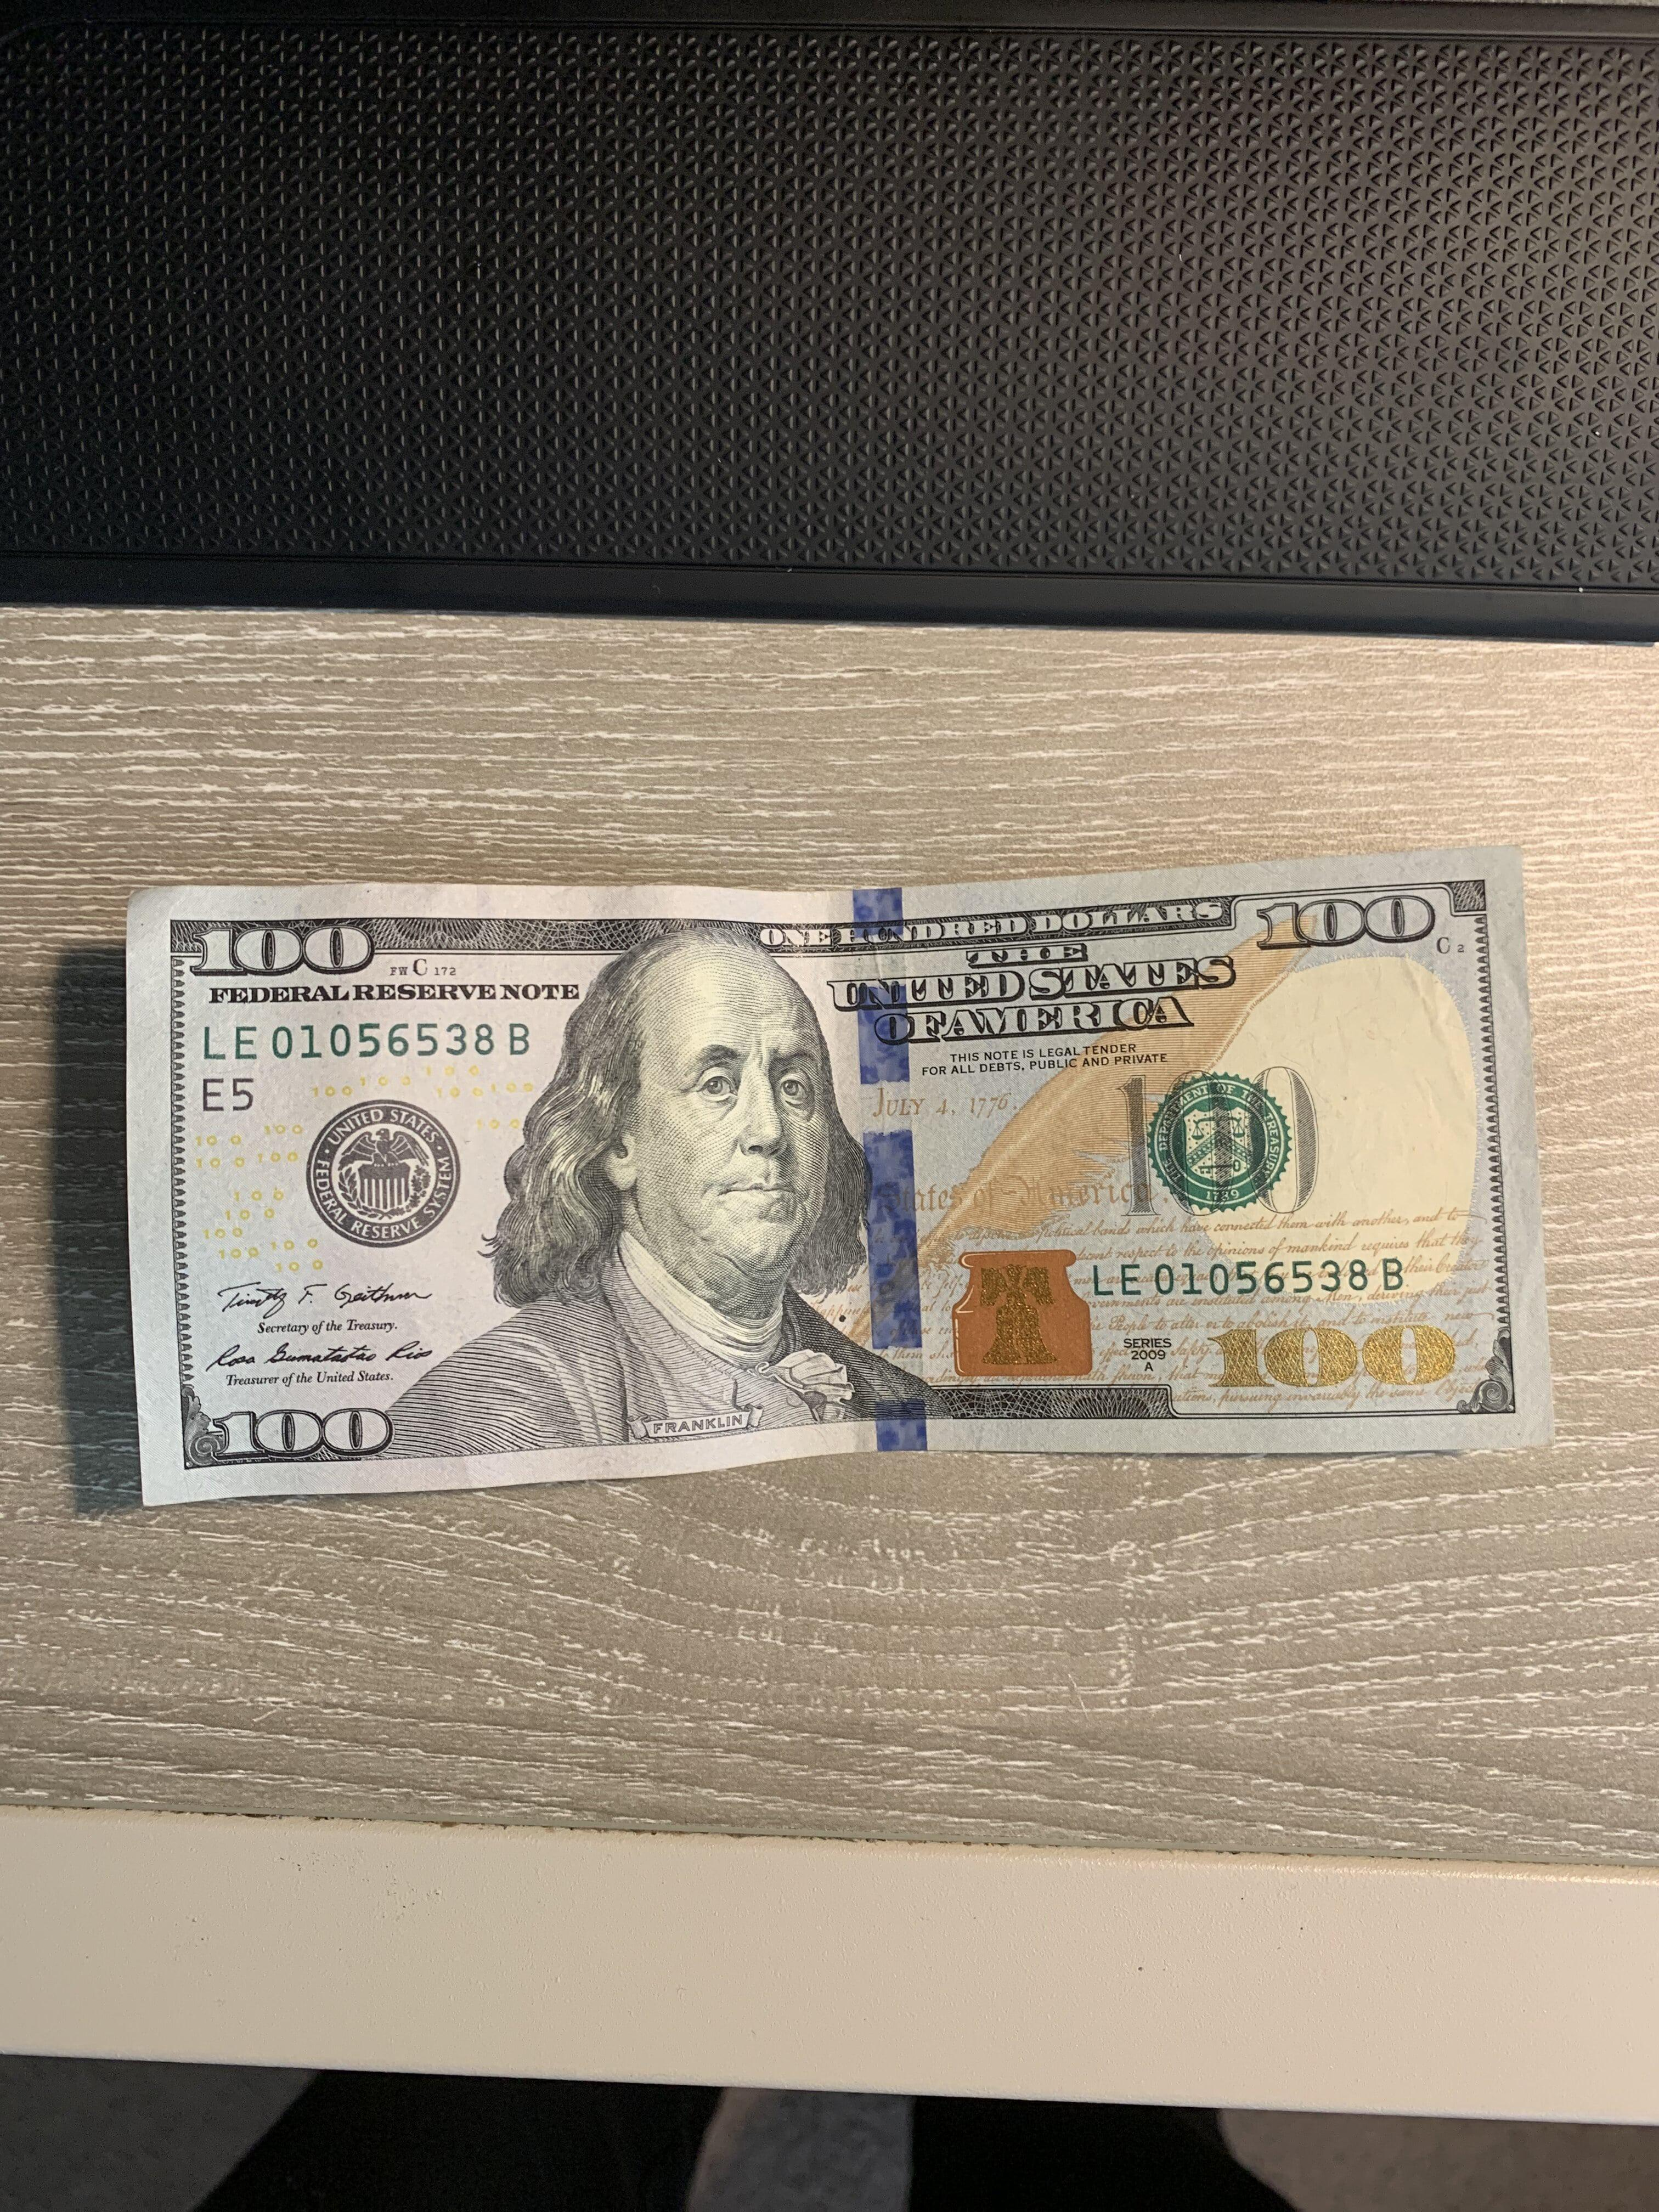HundredBill: (58, 786, 1586, 1616)
